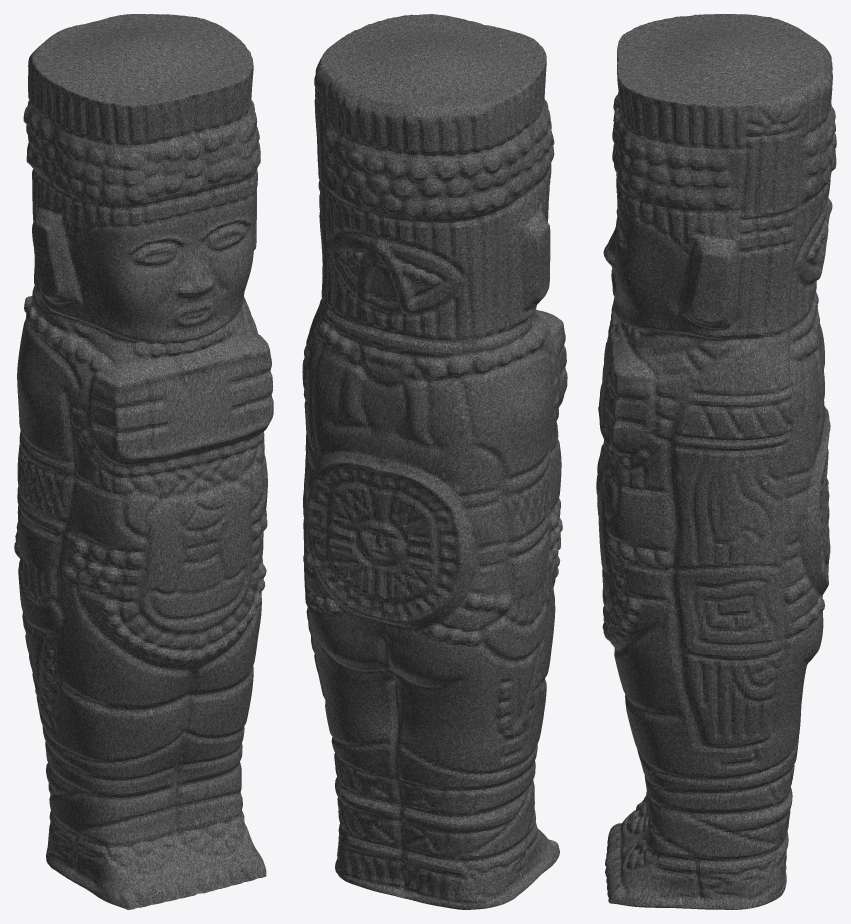
Rendered from atlante.glb.
3 views of the same model, side by side, from view 1: azimuth 30°, elevation 25°; view 2: azimuth 150°, elevation 25°; view 3: azimuth 270°, elevation 25° (orthographic). The views are drawn at different scales.
Visible parts, largest first — view 1: Object.1; view 2: Object.1; view 3: Object.1.
Boxes of the visible parts, x1,y1,x2,y2 form: Object.1: (14,14,273,909); Object.1: (302,14,567,909); Object.1: (596,14,836,909).
Size of the model in its own units: 23.09 by 81.62 by 21.65.
Materials: 1 (1 with a texture image).
